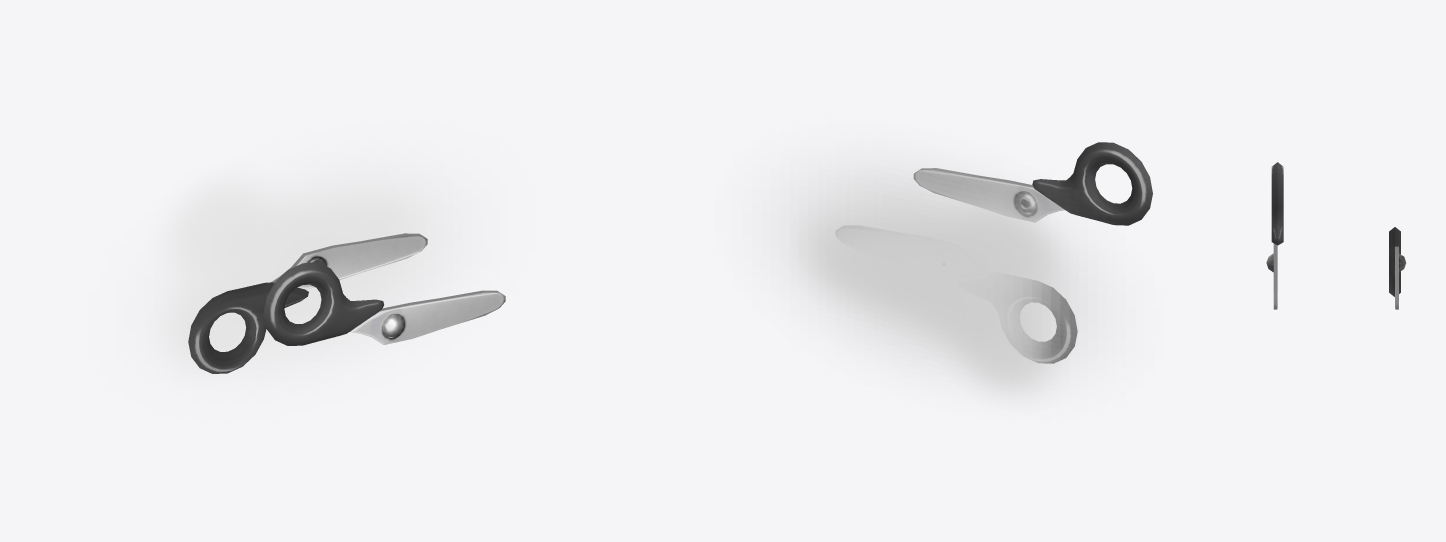
File: Scissors.glb
3 renders of one model, left to right at view 1: azimuth 30°, elevation 25°; view 2: azimuth 150°, elevation 25°; view 3: azimuth 270°, elevation 25°, orthographic. The views are drawn at different scales.
Visible parts, largest first — view 1: Glow, Shadow (×2), Scissors_02, Scissors_01; view 2: Glow, Shadow (×2), Scissors_02, Scissors_01; view 3: Scissors_02, Scissors_01.
Part boxes in pixels (x1,y1,x2,y2): Glow: (126,147,499,394); Shadow (×2): (161,171,392,374); Scissors_02: (263,262,505,345); Scissors_01: (188,233,427,373); Glow: (752,147,1125,389); Shadow (×2): (804,193,1061,401); Scissors_02: (913,142,1152,225); Scissors_01: (836,226,1077,363); Scissors_02: (1266,162,1283,309); Scissors_01: (1389,227,1406,309).
Bounding box in the file's own units: 3.67 × 2.16 × 1.13.
4 materials, 4 textured.
